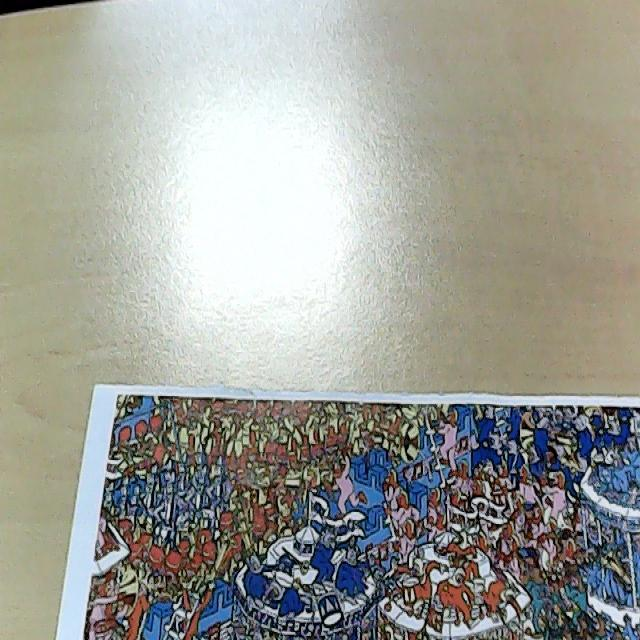waldo: (572, 528, 584, 549)
